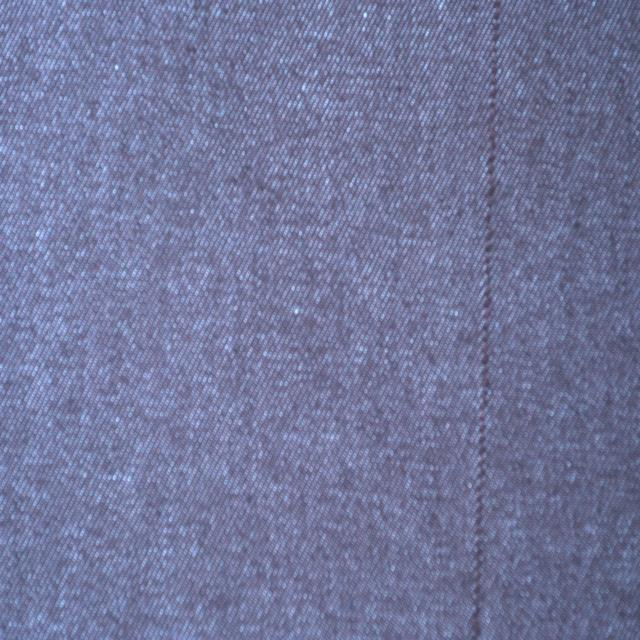Line: (468, 0, 505, 640)
